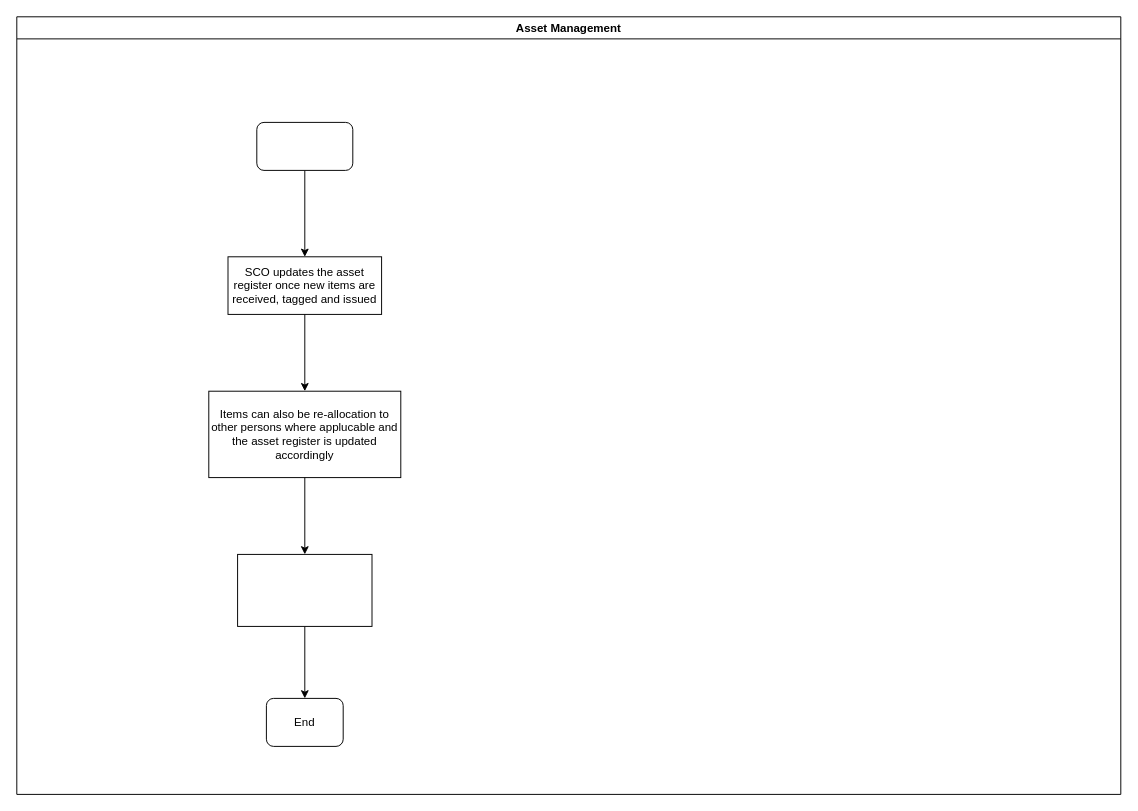
Some shapes in this 1138 by 811 pixel diagram are drawn without their labels. The shapes that lost their labels are listed below. From the top down, each one's box as (x1, y1, x2, y2) in pixels, then its label:
(256, 121, 353, 170): Start
(237, 553, 372, 626): Items can also be disposed and the register updated accordingly
